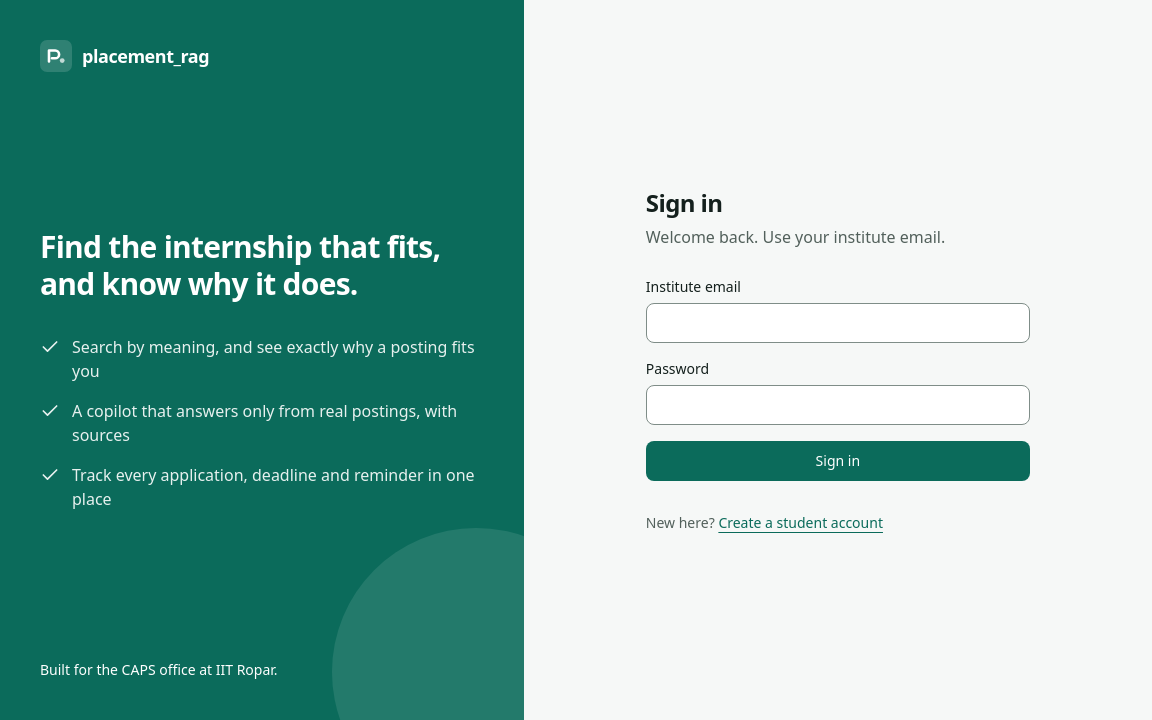
Test: auth › explains a failed sign in
Type "a@example.com" into the field labelled "Institute email".
click(838, 323); type("a@example.com")  # box [646, 303, 1030, 343]
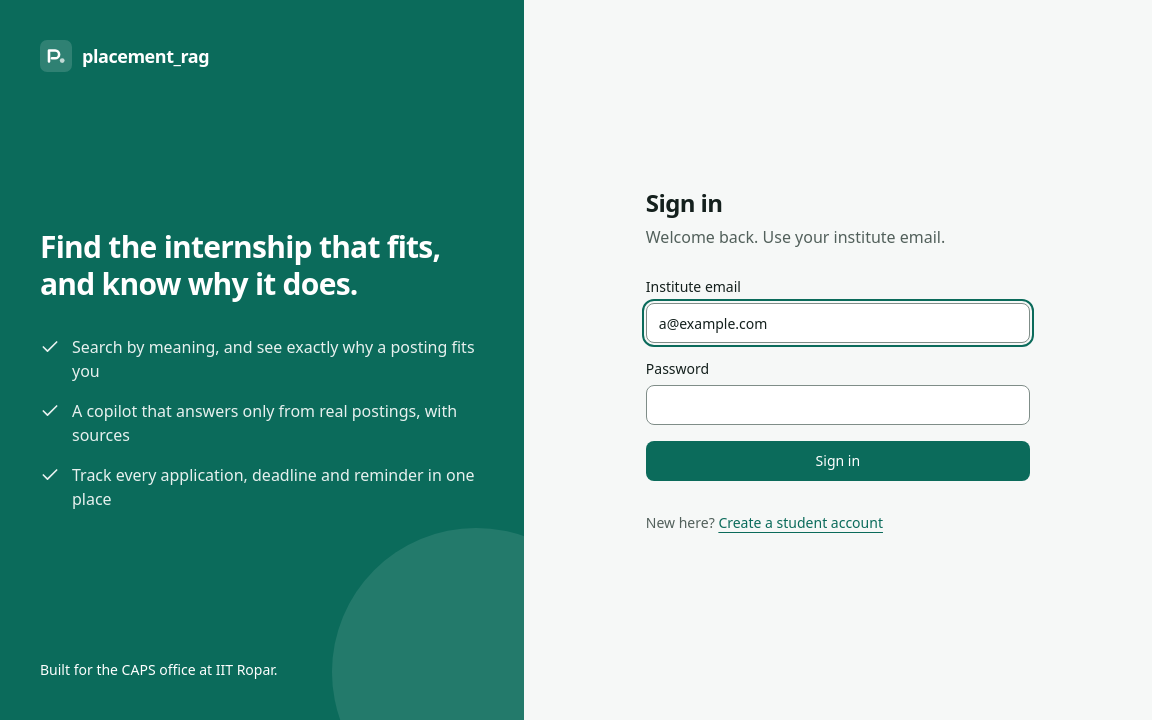
Type "wrong" into the password field labelled "Password".
click(838, 405); type("wrong")  # box [646, 385, 1030, 425]
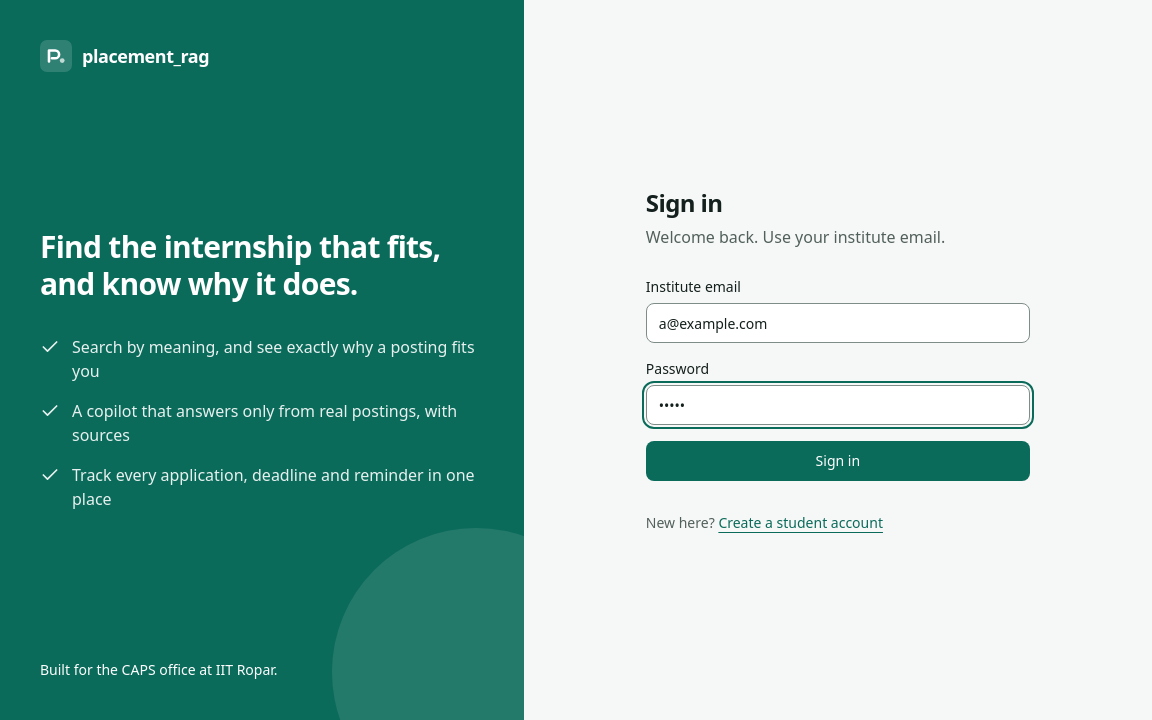
Click the button "Sign in".
click(838, 461)  # box [646, 441, 1030, 481]
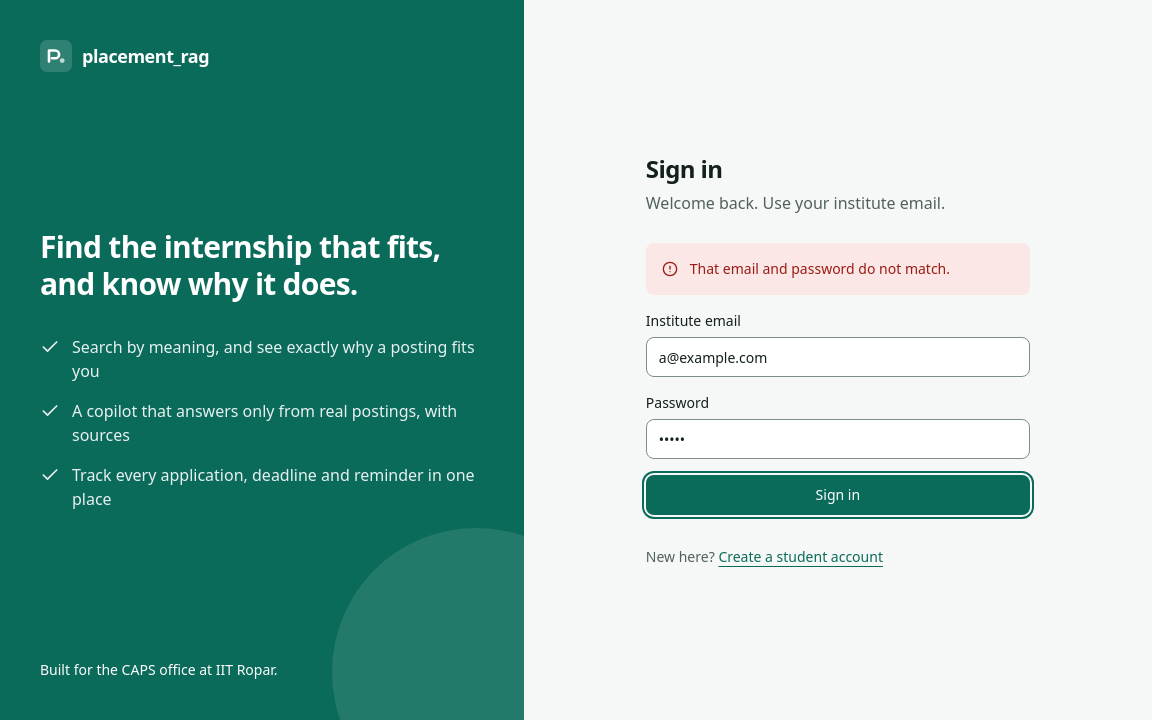
Check: the message shows "do not match", box [690, 259, 950, 278]
